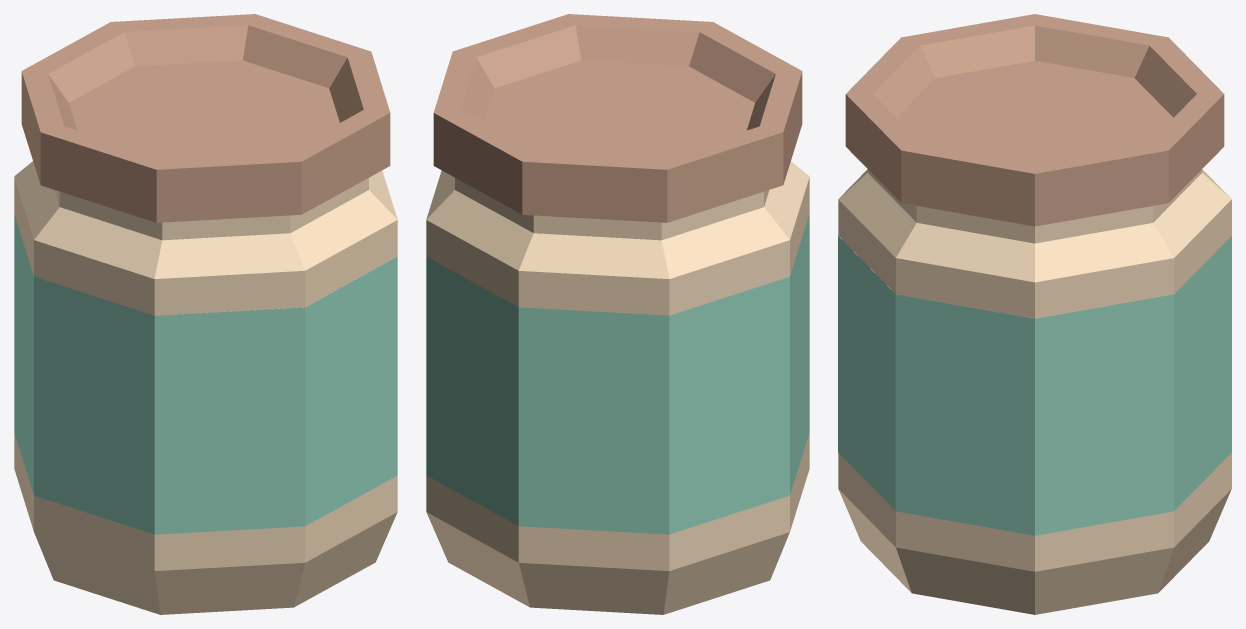
Rendered from peanut-butter.glb.
3 renders of one model, left to right at view 1: azimuth 30°, elevation 25°; view 2: azimuth 150°, elevation 25°; view 3: azimuth 270°, elevation 25°, orthographic.
Visible parts, largest first — view 1: peanutButter; view 2: peanutButter; view 3: peanutButter.
Boxes of the visible parts, box(x1,y1,x2,y2) form: peanutButter: box(14, 14, 397, 614); peanutButter: box(426, 14, 809, 614); peanutButter: box(838, 14, 1231, 614).
Bounding box in the file's own units: 0.236 × 0.2958 × 0.236.
